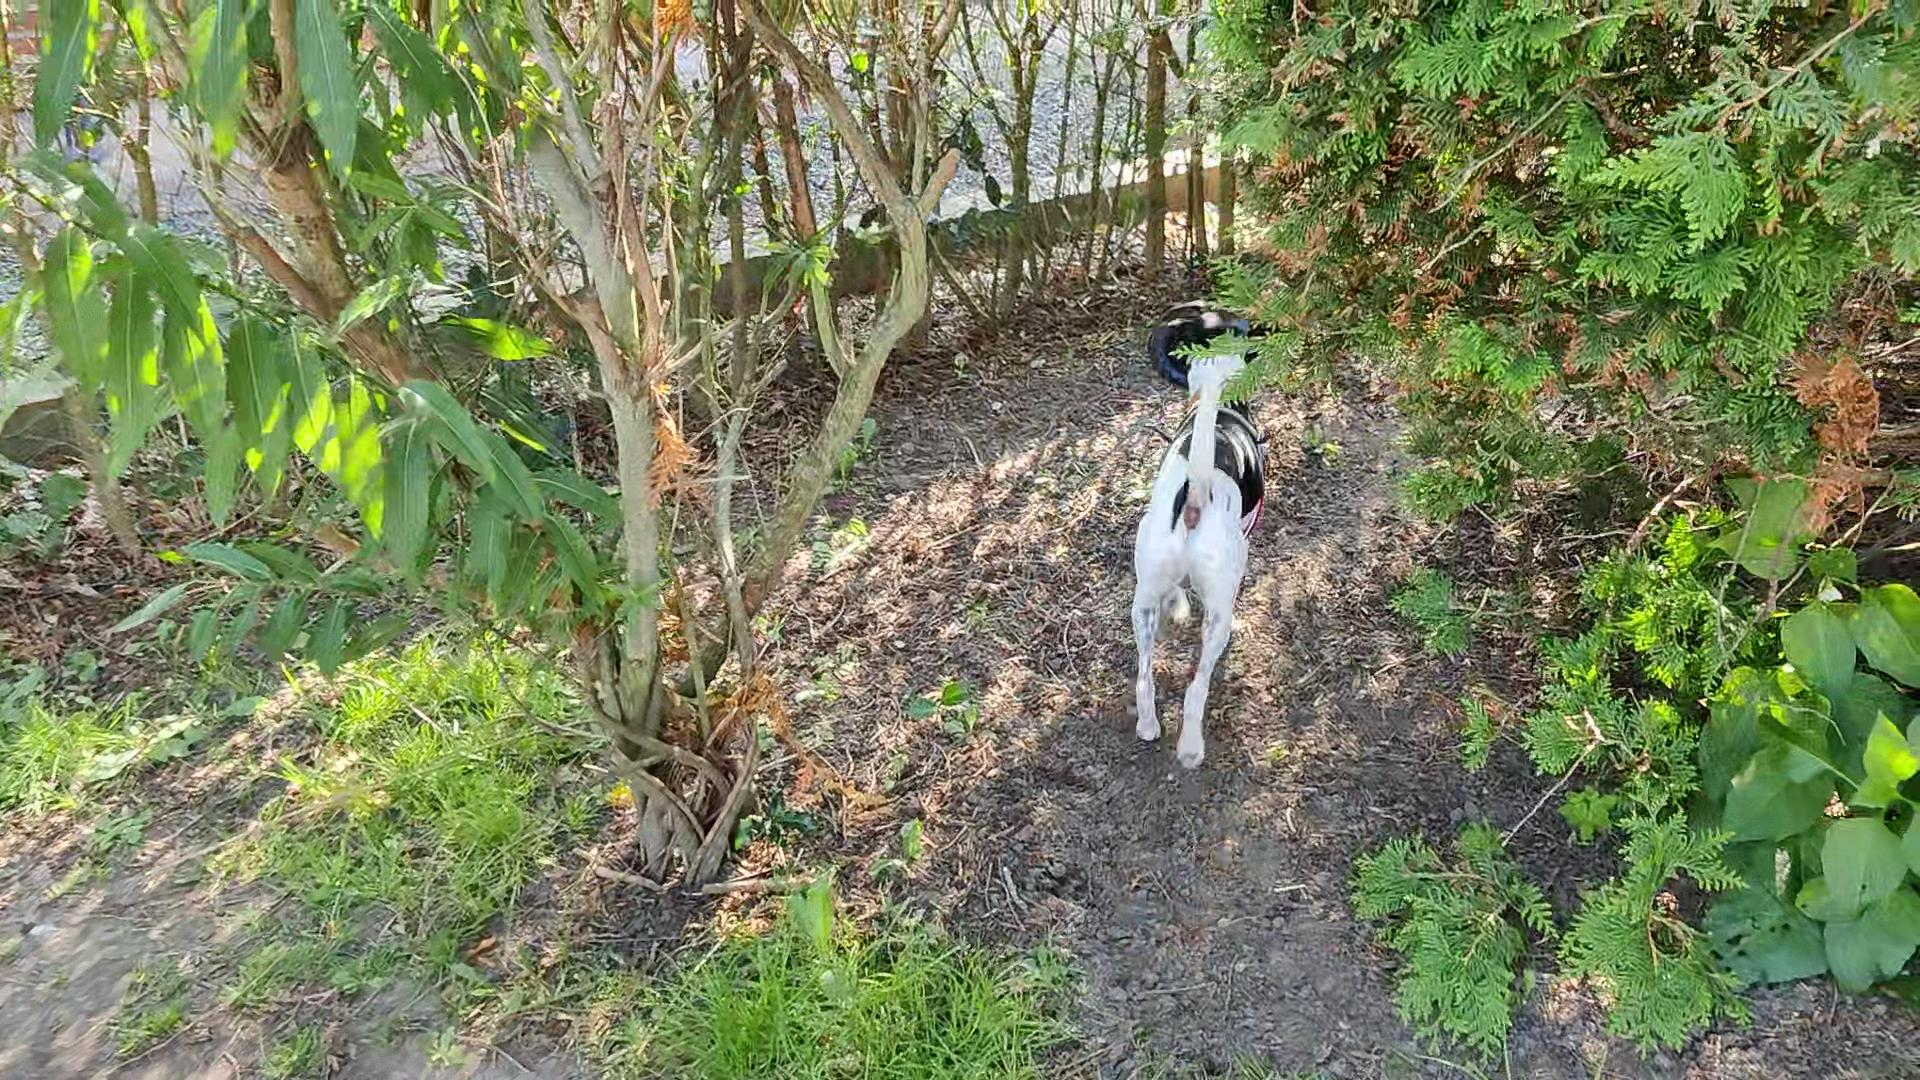Dog: (1084, 302, 1291, 775)
